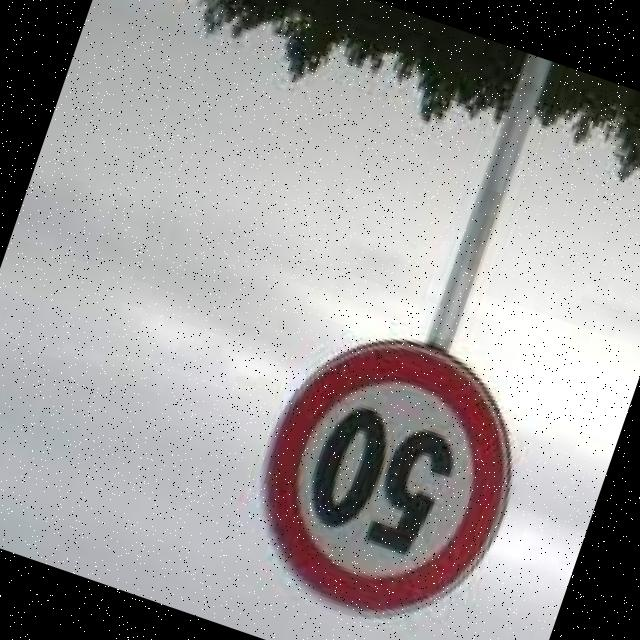speed_limit_50: (216, 301, 557, 640)
